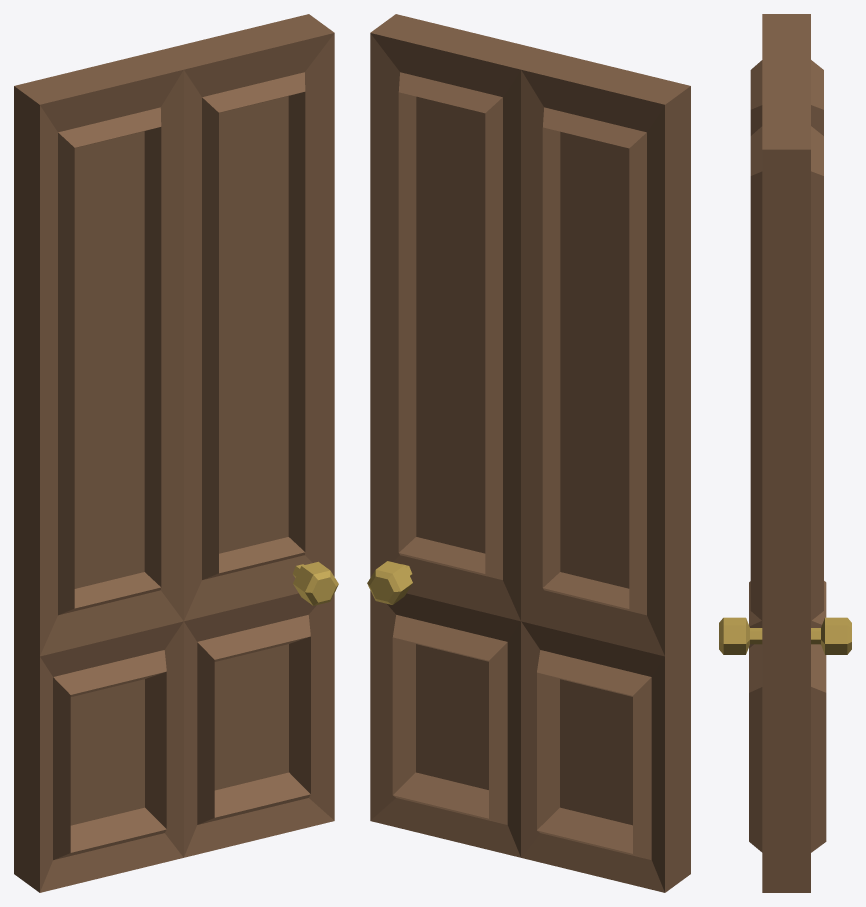
Rendered from ChurchDoorDouble.fbx.
The picture shows the model from 3 angles, left to right: view 1: azimuth 30°, elevation 25°; view 2: azimuth 150°, elevation 25°; view 3: azimuth 270°, elevation 25°; orthographic projection. The views are drawn at different scales.
Visible parts, largest first — view 1: polySurface100; view 2: polySurface100; view 3: polySurface100.
Boxes of the visible parts, x1,y1,x2,y2 form: polySurface100: (14, 14, 338, 892); polySurface100: (367, 14, 690, 892); polySurface100: (719, 14, 851, 892).
Size of the model in its own units: 0.522 by 1.33 by 0.2159.
